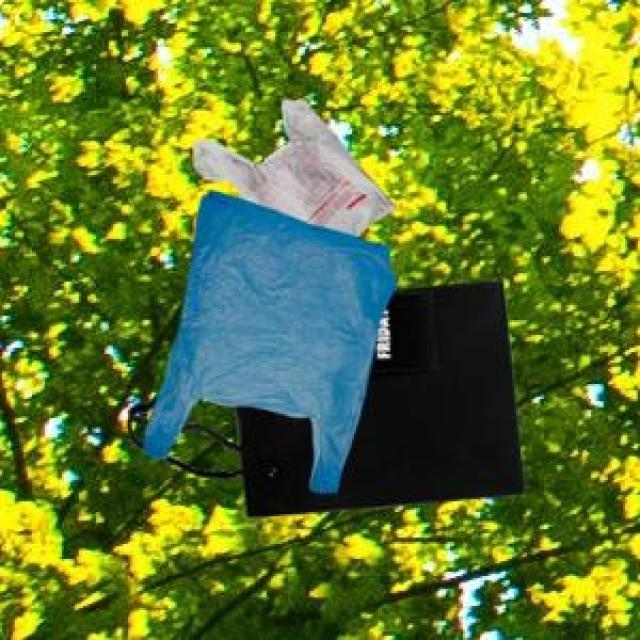paper: (124, 276, 521, 514)
